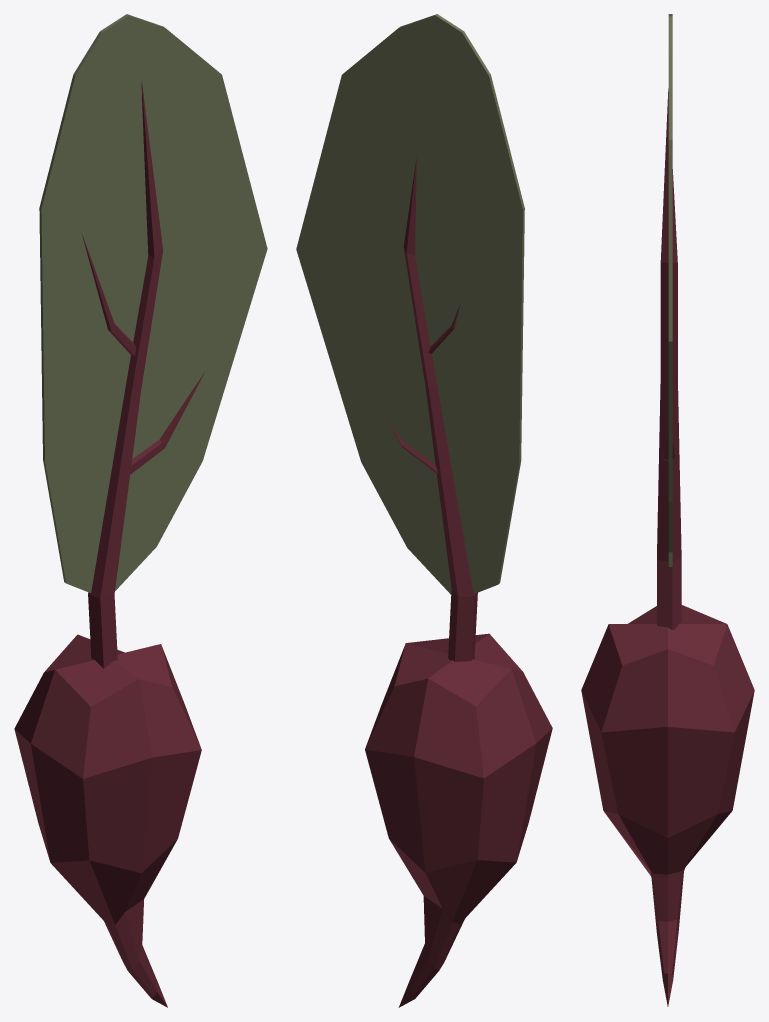
File: Beet_2.glb
3 renders of one model, left to right at view 1: azimuth 30°, elevation 25°; view 2: azimuth 150°, elevation 25°; view 3: azimuth 270°, elevation 25°, orthographic. The views are drawn at different scales.
Visible parts, largest first — view 1: Beet_2; view 2: Beet_2; view 3: Beet_2.
Part boxes in pixels (x1,y1,x2,y2): Beet_2: (14, 14, 267, 1007); Beet_2: (296, 14, 552, 1007); Beet_2: (581, 14, 754, 1006).
Size of the model in its own units: 0.2131 by 0.8597 by 0.1389.
